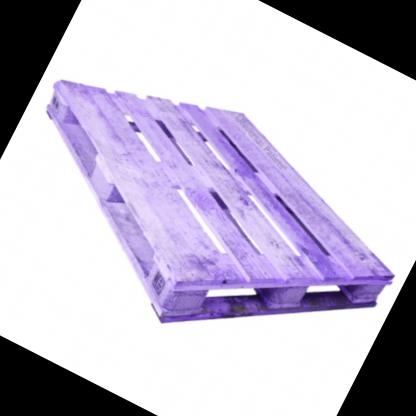BoxFace: (43, 81, 397, 327)
